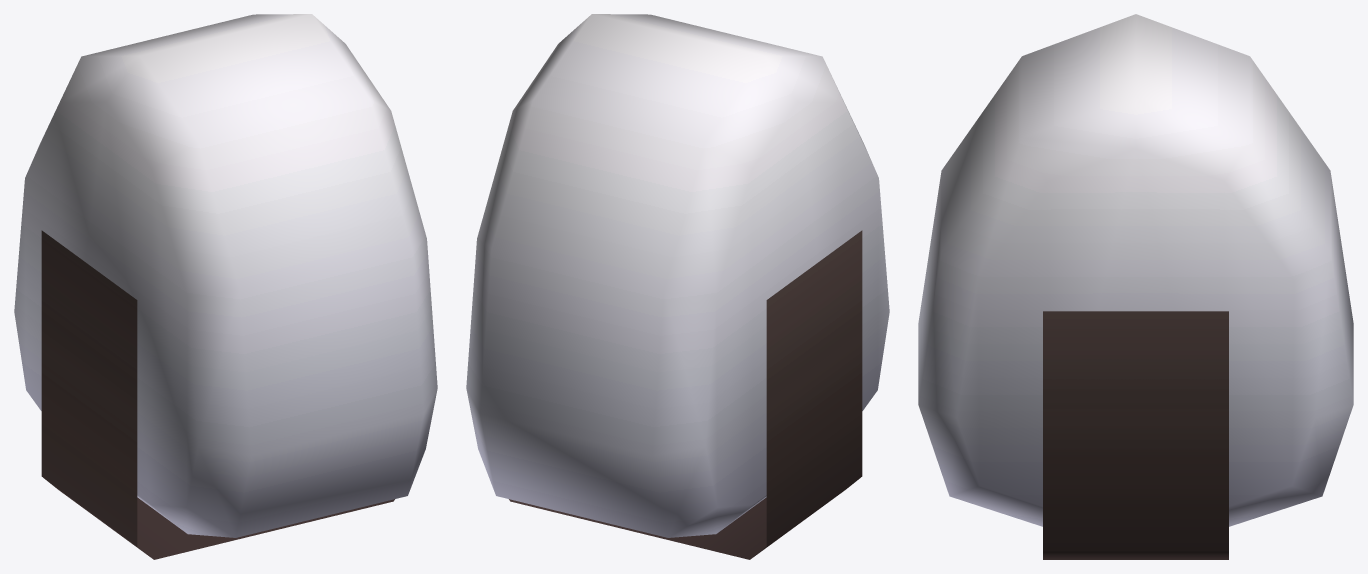
Rendered from rice-ball.d1850e95c2.glb.
The picture shows the model from 3 angles, left to right: view 1: azimuth 30°, elevation 25°; view 2: azimuth 150°, elevation 25°; view 3: azimuth 270°, elevation 25°; orthographic projection. The views are drawn at different scales.
Parts seen in each view (by area): view 1: rice-ball; view 2: rice-ball; view 3: rice-ball.
Part boxes in pixels (x1,y1,x2,y2): rice-ball: [14, 14, 437, 559]; rice-ball: [466, 14, 889, 559]; rice-ball: [918, 14, 1353, 559].
Size of the model in its own units: 0.0812 by 0.1309 by 0.1152.
1 material, 1 textured.
